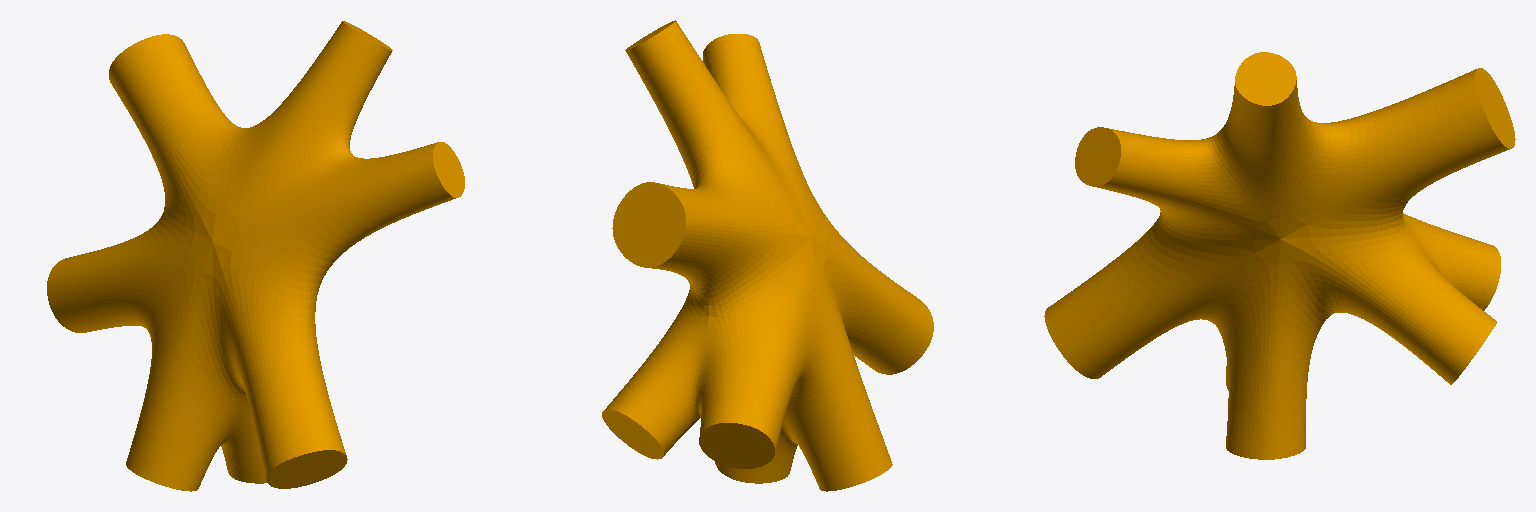
The robot description file, URDF, robot "object":
<robot name="object">
  <link name="object">
    <visual>
      <origin xyz="0 0 0"/>
      <geometry>
        <mesh filename="visual.obj" scale="1 1 1"/>
      </geometry>
    </visual>
    <collision>
      <origin xyz="0 0 0"/>
      <geometry>
        <mesh filename="visual.obj" scale="1 1 1"/>
      </geometry>
    </collision>
    <inertial>
      <mass value="0.05"/>
      <inertia ixx="0.00020273807679808444" iyy="0.00013346794852676306" izz="0.00012598670120865006" ixy="8.128118591660232e-06" ixz="-3.4118280976519125e-05" iyz="-6.33545005633741e-06"/>
    </inertial>
  </link>
</robot>

--- What the picture shows (computed from the rendered views, not written in the file) ---
3 views of the same robot in one strip: view 1: azimuth 30°, elevation 25°; view 2: azimuth 150°, elevation 25°; view 3: azimuth 270°, elevation 25° (orthographic).
Robot: object — 1 links, 0 joints (none); root link object; default pose: all joints at 0.
Links seen in each view (by area): view 1: object; view 2: object; view 3: object.
Boxes of the visible links, <box> form: object: <box>47,21,464,491</box>; object: <box>602,20,933,491</box>; object: <box>1044,52,1515,459</box>.
Bounding box of the posed robot: 0.1396 × 0.2134 × 0.2202 m (x, y, z).
1 mesh visuals loaded from 1 distinct referenced files (1 OBJ).
